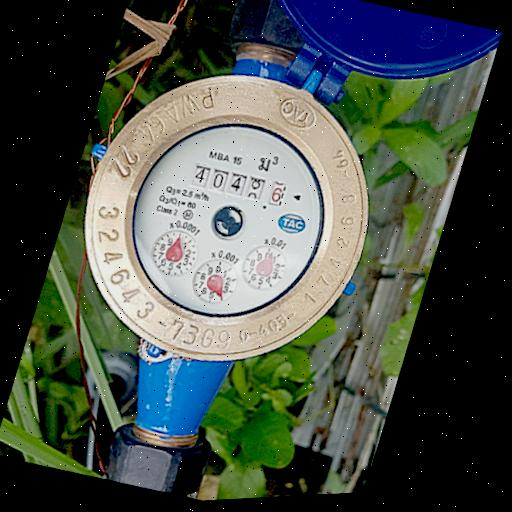0: (208, 168, 228, 193)
4: (190, 164, 211, 188), (227, 172, 246, 197)
6: (267, 179, 287, 206)
8: (246, 176, 265, 201)
border_water_meter_number: (186, 157, 289, 212)
